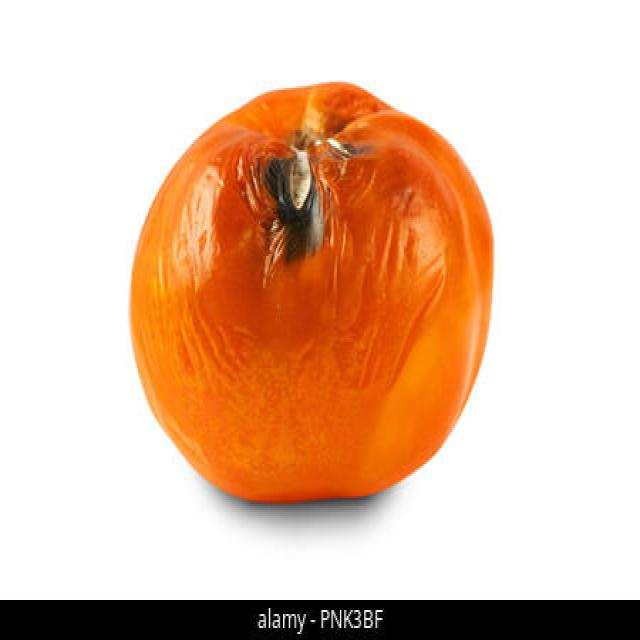Rotten: (129, 80, 496, 508)
